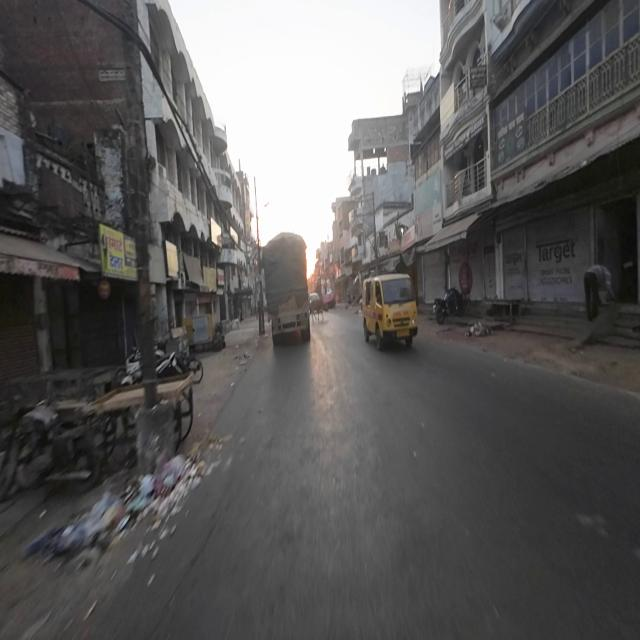Garbage: (62, 443, 196, 554)
